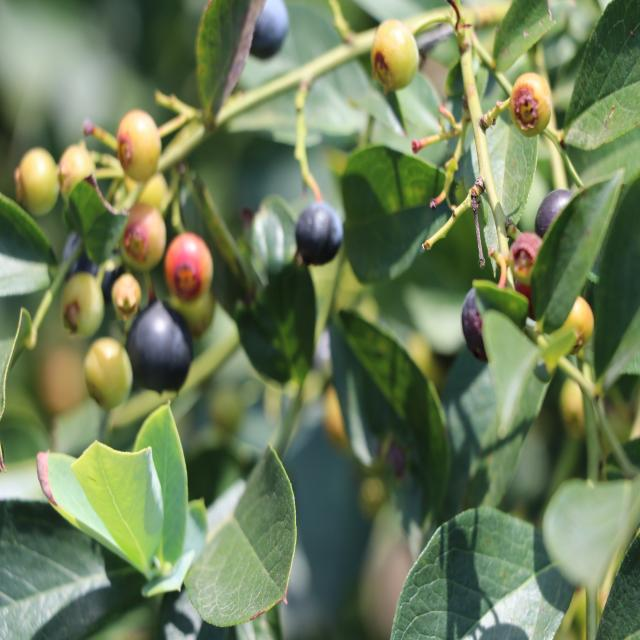blueberry: (125, 297, 197, 395), (460, 280, 512, 363), (533, 179, 577, 253), (296, 202, 344, 268), (244, 0, 292, 63)
blueberry-halfripe: (163, 233, 216, 303), (510, 230, 540, 284)
blueberry-unripe: (82, 332, 136, 410), (115, 104, 165, 176), (373, 15, 418, 91), (61, 268, 106, 340), (119, 202, 168, 268), (14, 150, 61, 217), (509, 71, 553, 142), (58, 143, 100, 198), (561, 291, 596, 354), (110, 272, 141, 318)
